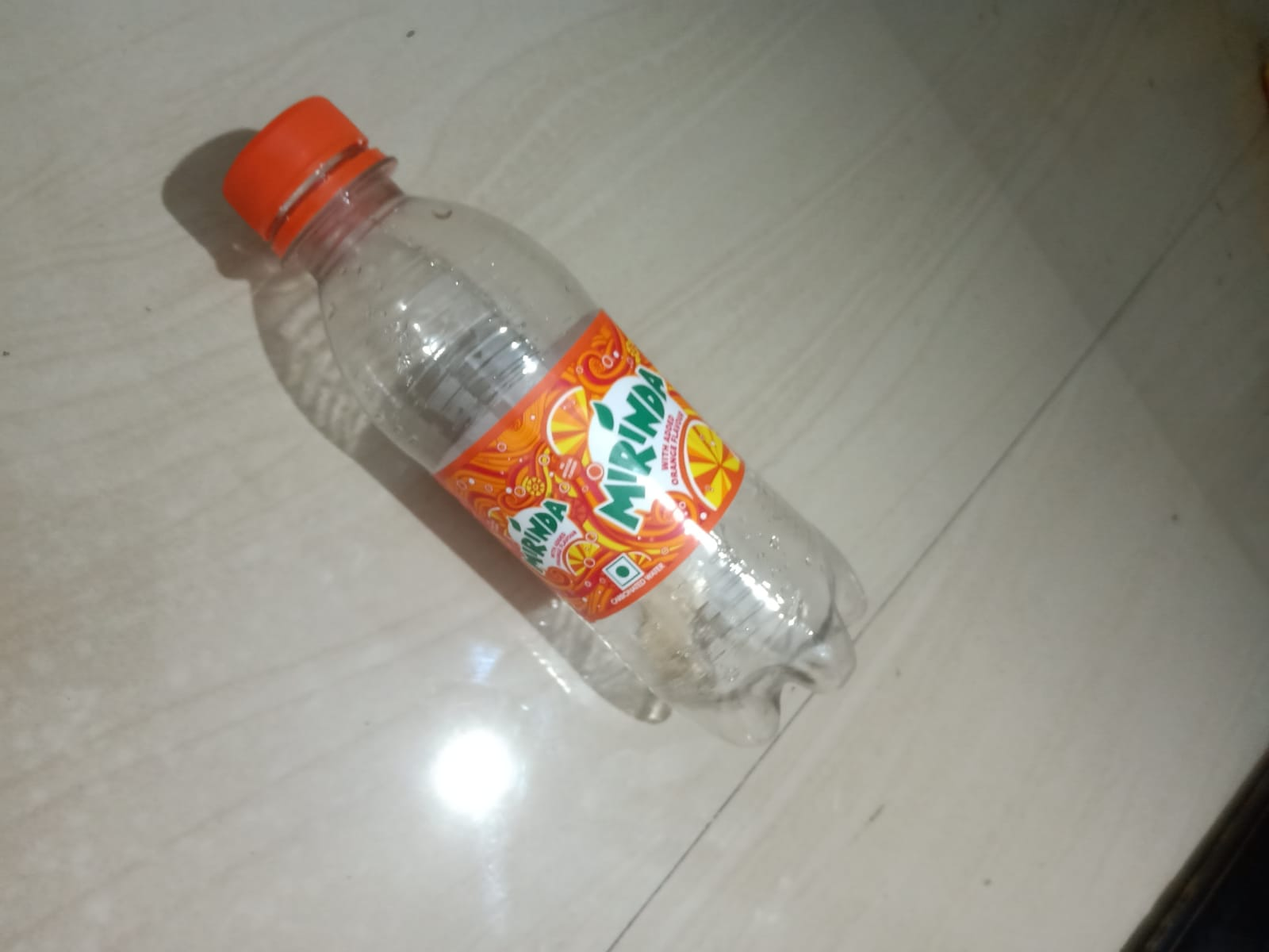plastic: (187, 92, 869, 725)
